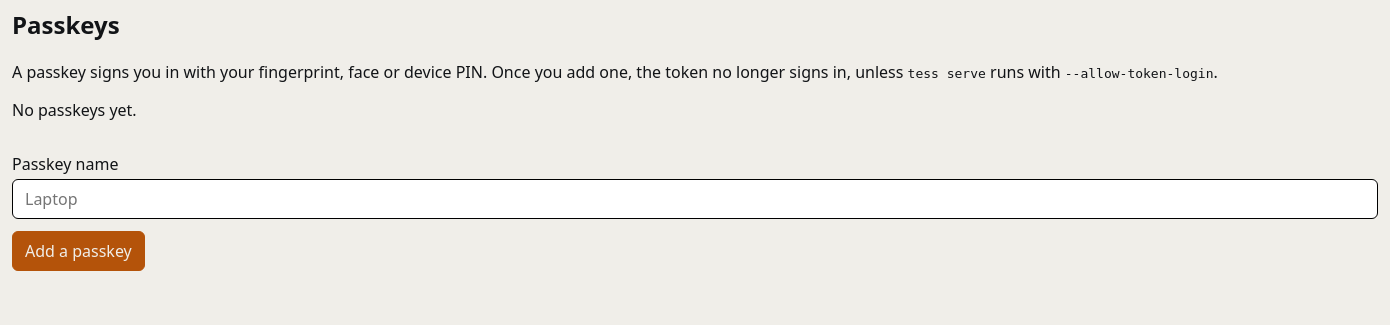
Scenario: Passkeys › shows errors
Click the button "Add a passkey": (78, 251) [12, 231, 145, 271]
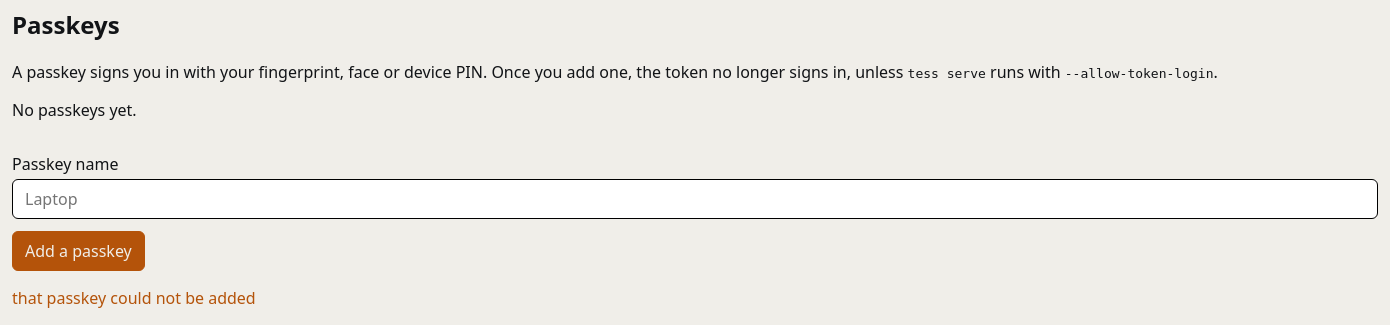
Expected: the message reads "that passkey could not be added", [12, 287, 256, 309]
